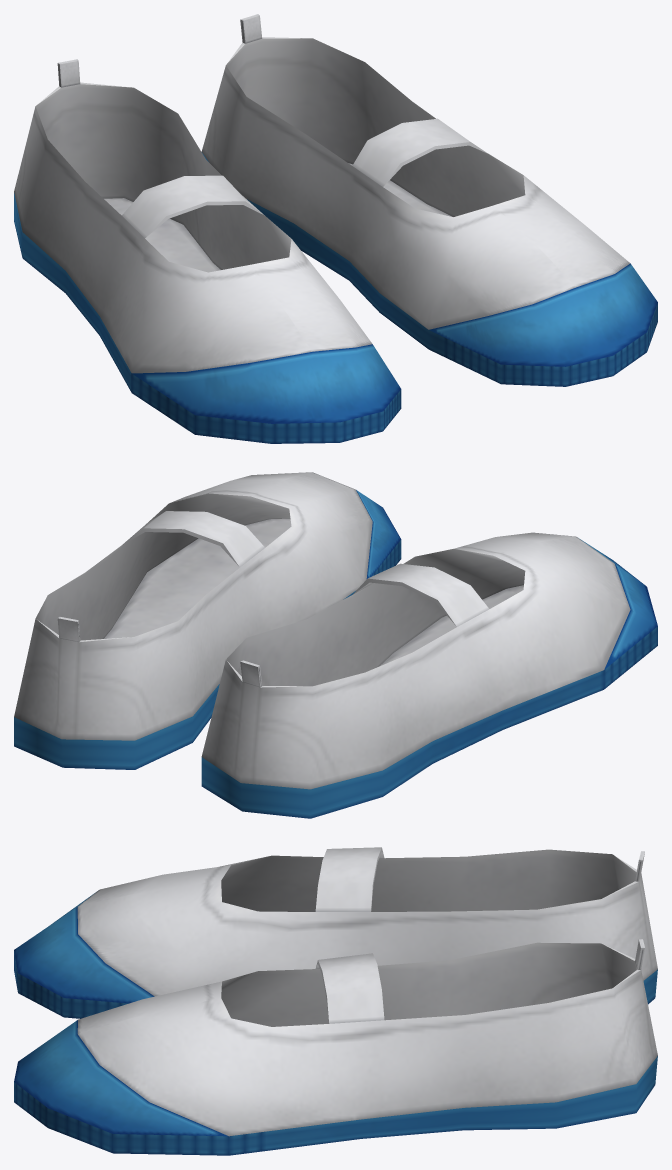
File: set_indoorshoes_01_a.fbx
The picture shows the model from 3 angles, top to bottom: view 1: azimuth 30°, elevation 25°; view 2: azimuth 150°, elevation 25°; view 3: azimuth 270°, elevation 25°; orthographic projection.
Visible parts, largest first — view 1: indoorshoes_01_a_R, indoorshoes_01_a_L; view 2: indoorshoes_01_a_L, indoorshoes_01_a_R; view 3: indoorshoes_01_a_R, indoorshoes_01_a_L.
Part boxes in pixels (x1,y1,x2,y2): indoorshoes_01_a_R: (201,14,657,386); indoorshoes_01_a_L: (14,59,401,443); indoorshoes_01_a_L: (201,532,657,818); indoorshoes_01_a_R: (14,472,401,769); indoorshoes_01_a_R: (14,939,657,1155); indoorshoes_01_a_L: (14,847,657,1018).
Bounding box in the file's own units: 21.31 × 6.18 × 25.41.
